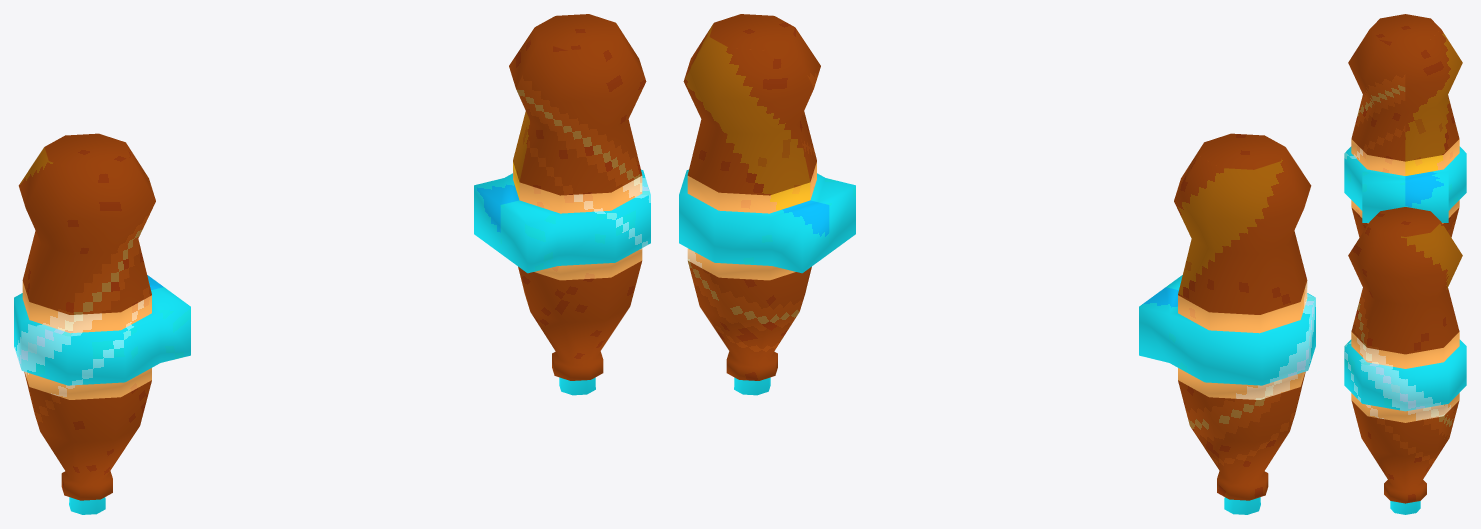
Rendered from jetpack.glb.
3 renders of one model, left to right at view 1: azimuth 30°, elevation 25°; view 2: azimuth 150°, elevation 25°; view 3: azimuth 270°, elevation 25°, orthographic. The views are drawn at different scales.
Parts seen in each view (by area): view 1: Bottle; view 2: Bottle; view 3: Bottle.
Boxes of the visible parts, left/top/right/bottom form: Bottle: left=14, top=14, right=650, bottom=514; Bottle: left=679, top=14, right=1315, bottom=514; Bottle: left=1344, top=14, right=1466, bottom=514.
Bounding box in the file's own units: 0.2957 × 0.1616 × 0.0625.
Materials: 3 (3 with a texture image).
